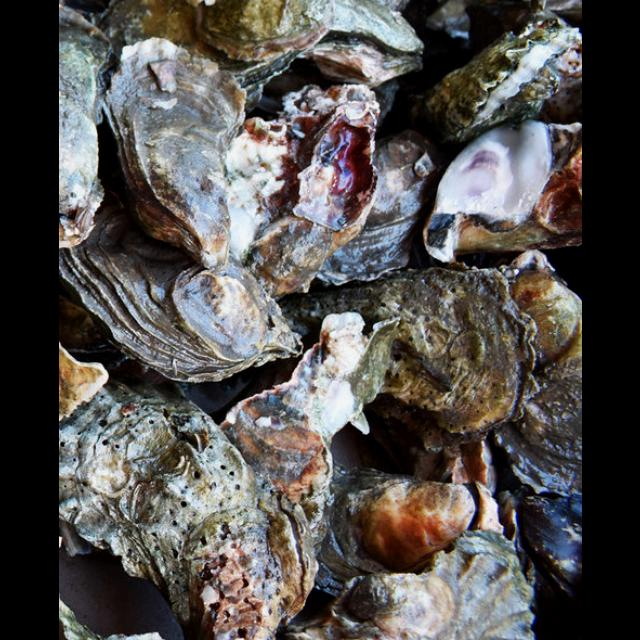Oyster-Closed: (58, 381, 316, 639), (58, 176, 301, 383), (279, 270, 540, 449), (102, 39, 248, 268), (229, 84, 377, 296), (95, 0, 334, 108), (316, 464, 501, 596), (414, 18, 581, 143), (319, 130, 453, 281), (329, 551, 536, 639), (498, 330, 581, 497), (58, 6, 112, 248), (173, 264, 266, 361), (504, 252, 581, 363), (523, 494, 581, 602)
Oyster-Open: (304, 4, 425, 91)
